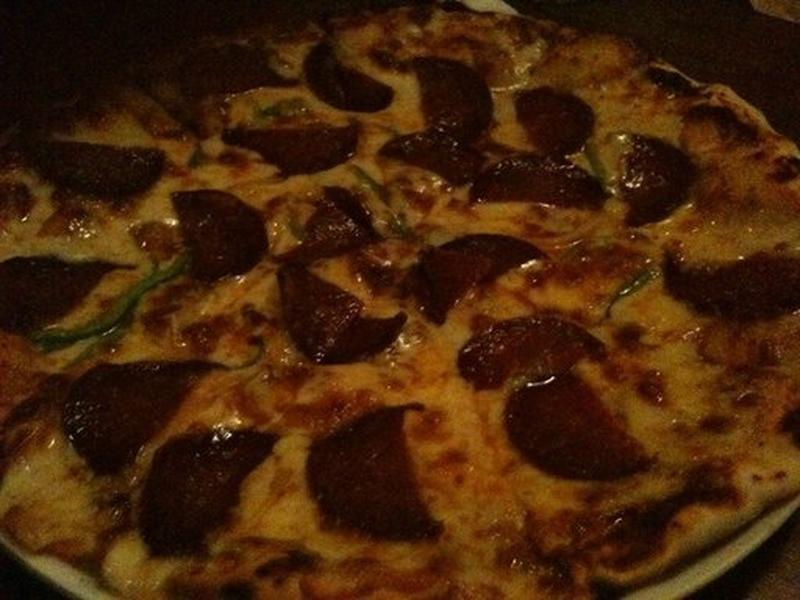pizza: (41, 11, 800, 584)
